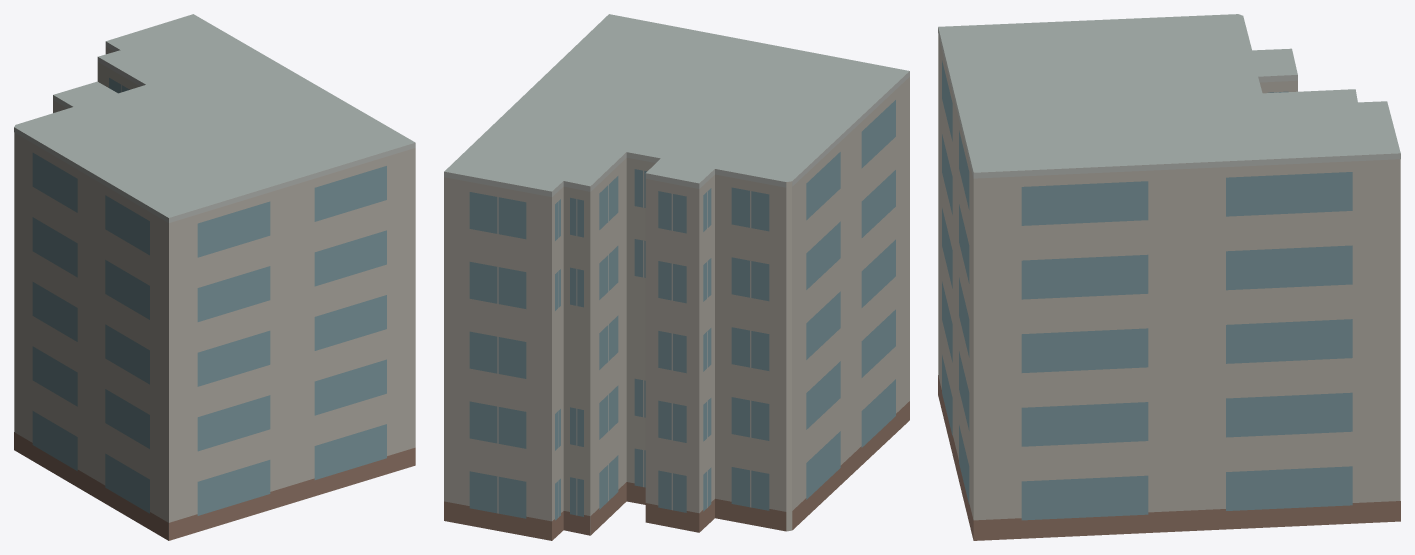
The model's file is survey-upis-32674408.glb.
3 renders of one model, left to right at view 1: azimuth 30°, elevation 25°; view 2: azimuth 150°, elevation 25°; view 3: azimuth 270°, elevation 25°, orthographic. The views are drawn at different scales.
Parts seen in each view (by area): view 1: survey-upis-32674408.tmp; view 2: survey-upis-32674408.tmp; view 3: survey-upis-32674408.tmp.
Part boxes in pixels (x1,y1,x2,y2): survey-upis-32674408.tmp: [14, 14, 415, 540]; survey-upis-32674408.tmp: [444, 14, 909, 540]; survey-upis-32674408.tmp: [938, 14, 1400, 540].
Bounding box in the file's own units: 14.12 × 15.25 × 17.38.
